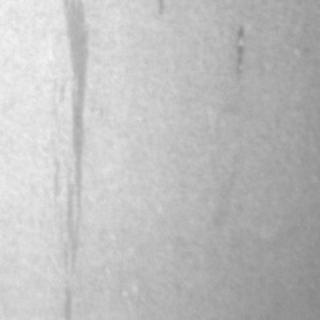inclusion: (48, 0, 98, 284), (228, 20, 252, 84)
